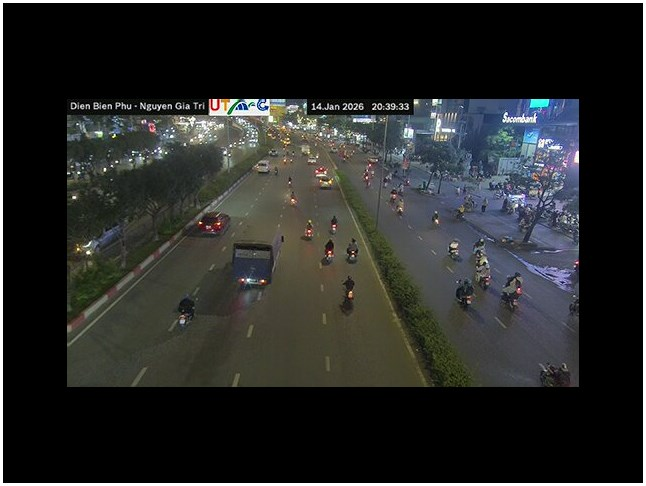bus: (231, 227, 284, 287)
car: (196, 211, 231, 236), (317, 176, 335, 189), (254, 161, 270, 173)
motorbike: (537, 358, 571, 386), (505, 272, 523, 309), (176, 294, 196, 326), (454, 276, 473, 308), (320, 237, 336, 266), (478, 261, 493, 289), (343, 276, 358, 301), (346, 238, 359, 262), (449, 236, 461, 259), (472, 236, 485, 256), (305, 218, 315, 241), (394, 199, 406, 216), (330, 214, 340, 234), (430, 209, 441, 227), (287, 192, 298, 207), (285, 174, 294, 188), (397, 181, 405, 193)
